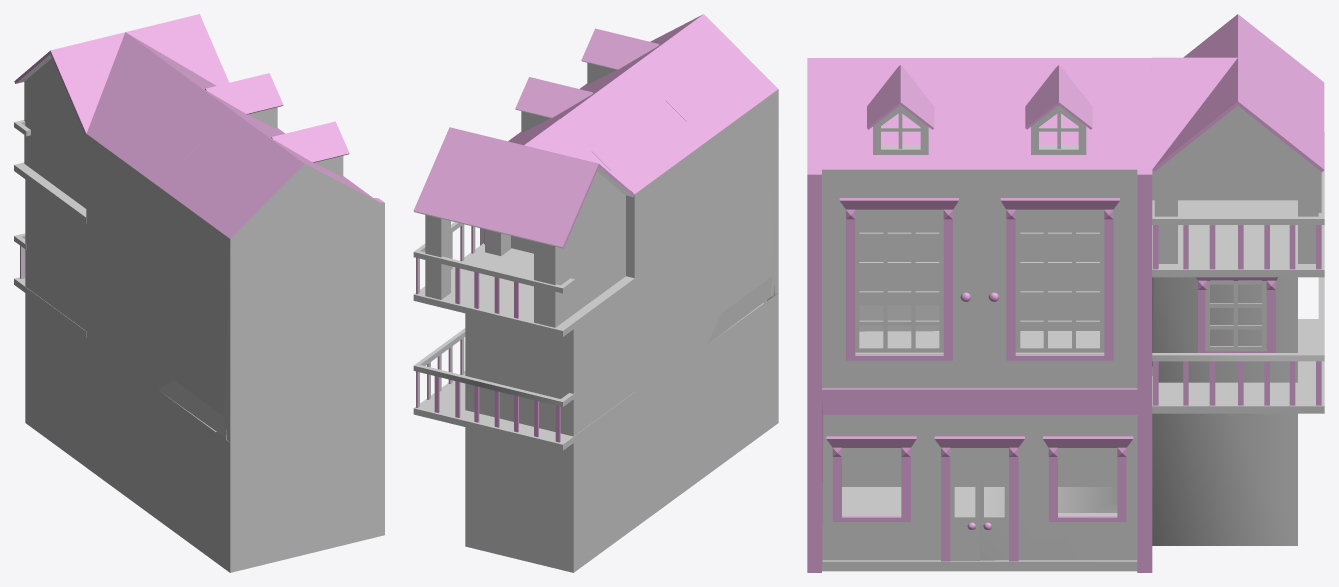
File: House.fbx
The picture shows the model from 3 angles, left to right: view 1: azimuth 30°, elevation 25°; view 2: azimuth 150°, elevation 25°; view 3: azimuth 270°, elevation 25°; orthographic projection. The views are drawn at different scales.
Visible parts, largest first — view 1: polySurface1; view 2: polySurface1; view 3: polySurface1.
Boxes of the visible parts, <box> form: polySurface1: <box>14,14,384,572</box>; polySurface1: <box>413,14,778,572</box>; polySurface1: <box>807,14,1324,572</box>.
Size of the model in its own units: 58.29 by 141 by 141.
